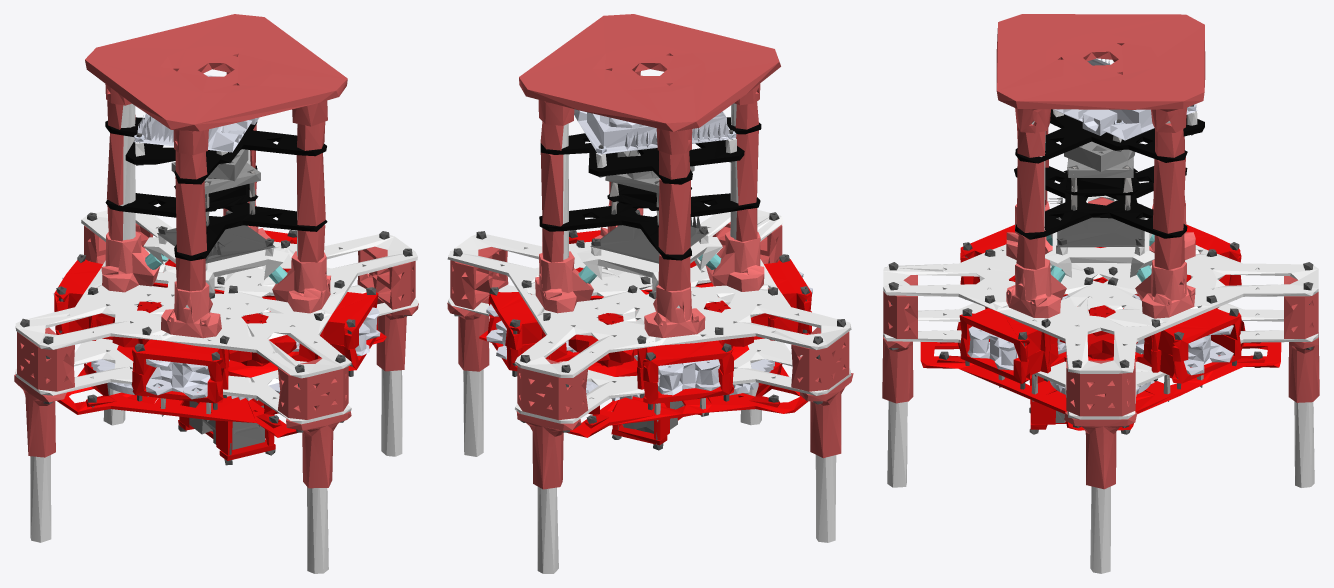
The model's file is amoeba_base.dae.
3 views of the same model, side by side, from view 1: azimuth 30°, elevation 25°; view 2: azimuth 150°, elevation 25°; view 3: azimuth 270°, elevation 25° (orthographic).
Parts seen in each view (by area): view 1: Shape_IndexedFaceSet; view 2: Shape_IndexedFaceSet; view 3: Shape_IndexedFaceSet.
Boxes of the visible parts, left/top/right/bottom form: Shape_IndexedFaceSet: left=14, top=14, right=418, bottom=573; Shape_IndexedFaceSet: left=447, top=14, right=853, bottom=573; Shape_IndexedFaceSet: left=882, top=14, right=1319, bottom=573.
Bounding box in the file's own units: 0.2514 × 0.2514 × 0.27.
